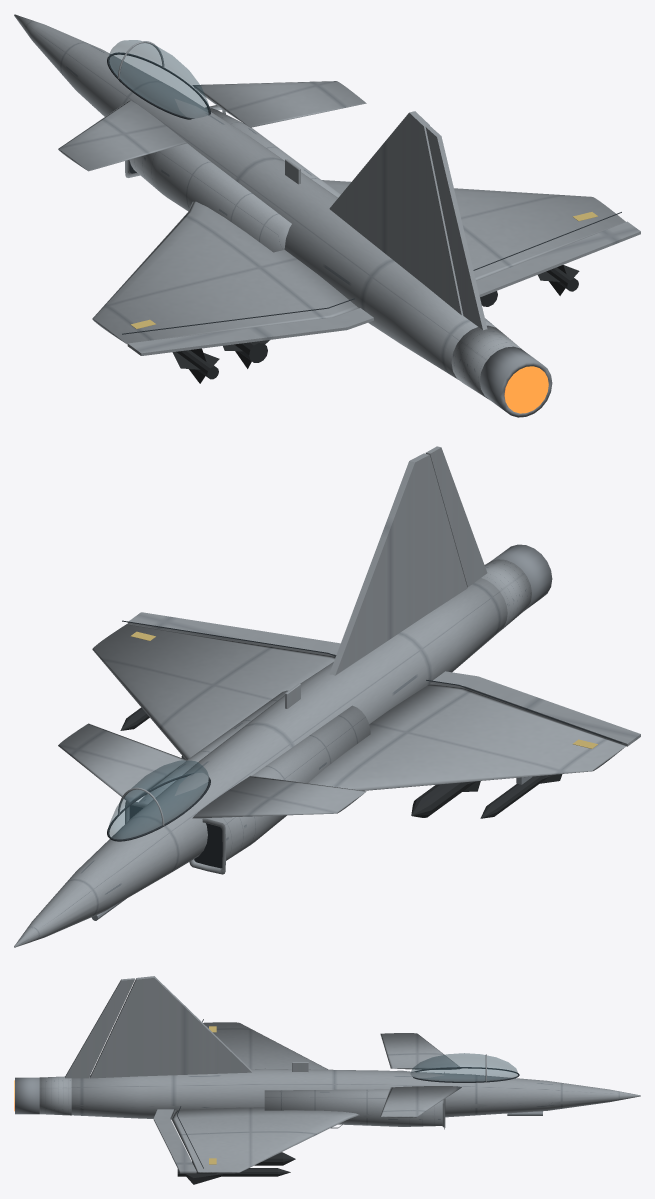
The model's file is wings_gripen.glb.
The picture shows the model from 3 angles, top to bottom: view 1: azimuth 30°, elevation 25°; view 2: azimuth 150°, elevation 25°; view 3: azimuth 270°, elevation 25°; orthographic projection. The views are drawn at different scales.
Visible parts, largest first — view 1: airframe_static, canard_R, canopy, canard_L, elevon_L, rudder_1, elevon_R, afterburner, missile_L2, missile_R2, missile_L1; view 2: airframe_static, canopy, canard_R, canard_L, elevon_L, elevon_R, rudder_1, missile_L1, missile_L2; view 3: airframe_static, canopy, canard_L, rudder_1, canard_R, elevon_R, missile_R2, missile_R1.
Part boxes in pixels (x1,y1,x2,y2): airframe_static: [14, 14, 625, 417]; canard_R: [192, 81, 366, 127]; canopy: [107, 40, 210, 119]; canard_L: [58, 100, 187, 171]; elevon_L: [127, 308, 373, 355]; rudder_1: [425, 126, 487, 330]; elevon_R: [476, 221, 640, 297]; afterburner: [504, 366, 548, 413]; missile_L2: [172, 348, 219, 383]; missile_R2: [538, 265, 579, 295]; missile_L1: [223, 340, 269, 368]; airframe_static: [14, 453, 625, 947]; canopy: [107, 760, 210, 841]; canard_R: [58, 723, 186, 802]; canard_L: [192, 775, 366, 818]; elevon_L: [432, 671, 640, 746]; elevon_R: [127, 612, 340, 656]; rudder_1: [426, 446, 487, 587]; missile_L1: [411, 781, 480, 817]; missile_L2: [480, 774, 562, 818]; airframe_static: [15, 976, 640, 1173]; canopy: [410, 1053, 519, 1082]; canard_L: [380, 1033, 461, 1069]; rudder_1: [65, 978, 134, 1078]; canard_R: [380, 1086, 461, 1117]; elevon_R: [153, 1109, 196, 1173]; missile_R2: [177, 1161, 290, 1184]; missile_R1: [254, 1152, 295, 1165].
Bounding box in the file's own units: 8.4 × 4.27 × 14.91.
7 materials, 1 textured.
